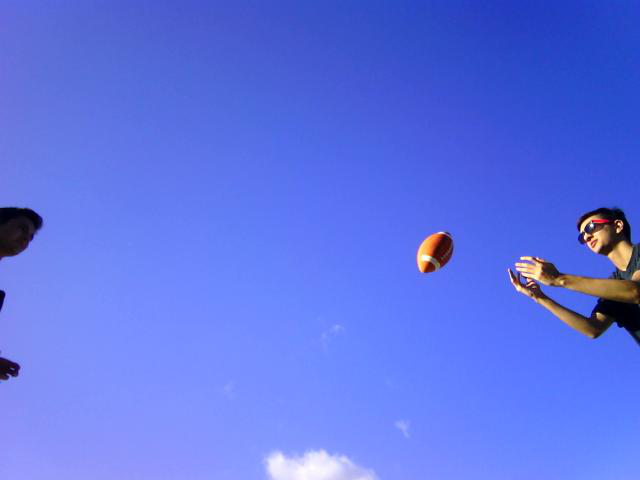football: (418, 228, 458, 278)
